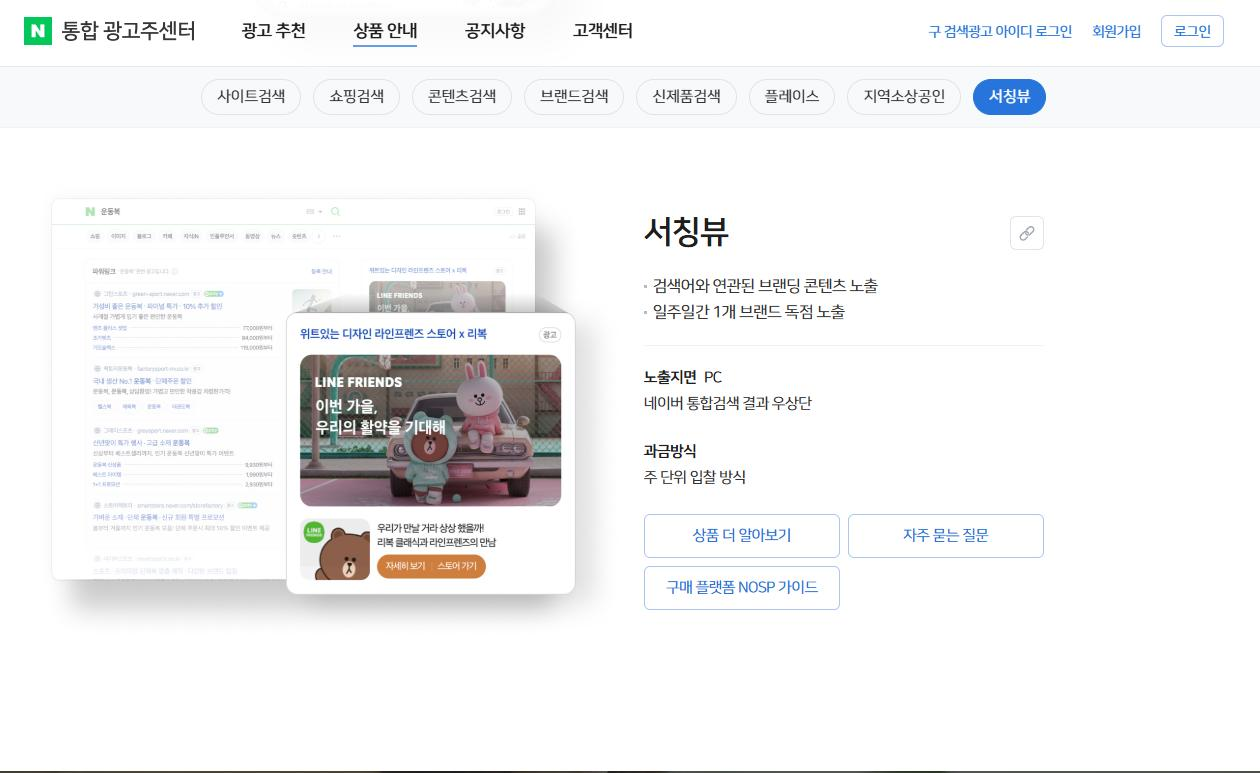button: (850, 517, 1042, 560), (645, 515, 838, 556), (646, 570, 841, 609), (343, 16, 439, 56), (926, 19, 1075, 44), (409, 81, 508, 118), (231, 14, 319, 55), (449, 16, 546, 53), (525, 80, 621, 112), (648, 83, 744, 114), (569, 15, 653, 49), (750, 80, 839, 112), (849, 86, 953, 113), (202, 81, 295, 108), (315, 81, 392, 111), (973, 81, 1041, 113), (1161, 19, 1225, 48), (1011, 219, 1043, 253), (1096, 19, 1144, 40)
